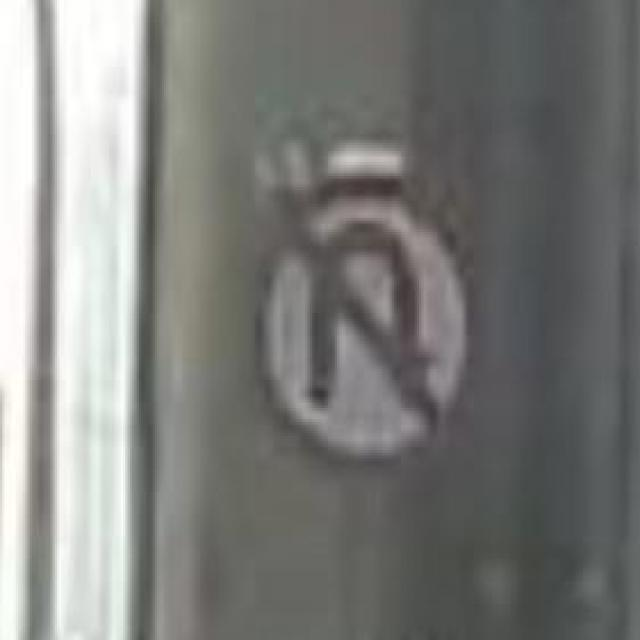do_not_u_turn: (253, 176, 476, 470)
